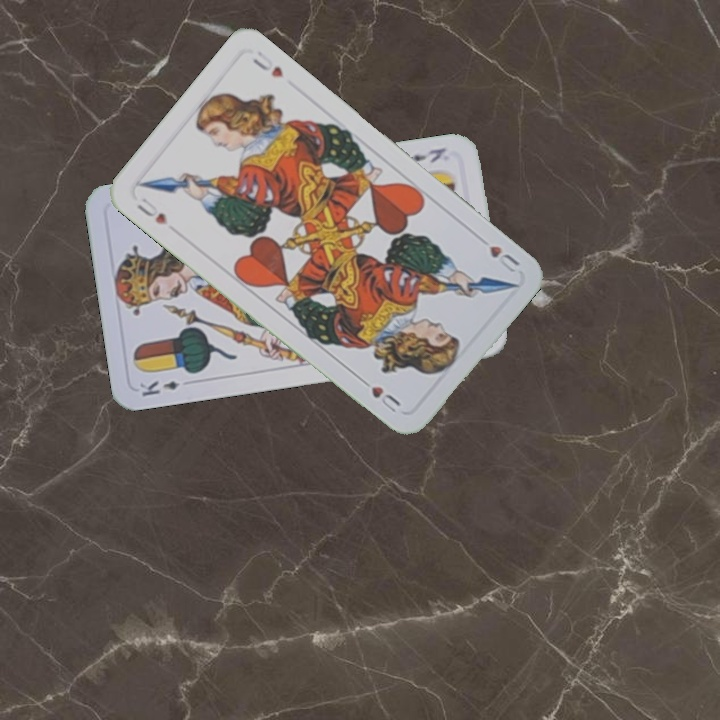EK: (135, 376, 182, 399), (408, 143, 449, 166)
HU: (133, 193, 171, 228), (485, 241, 522, 276)
